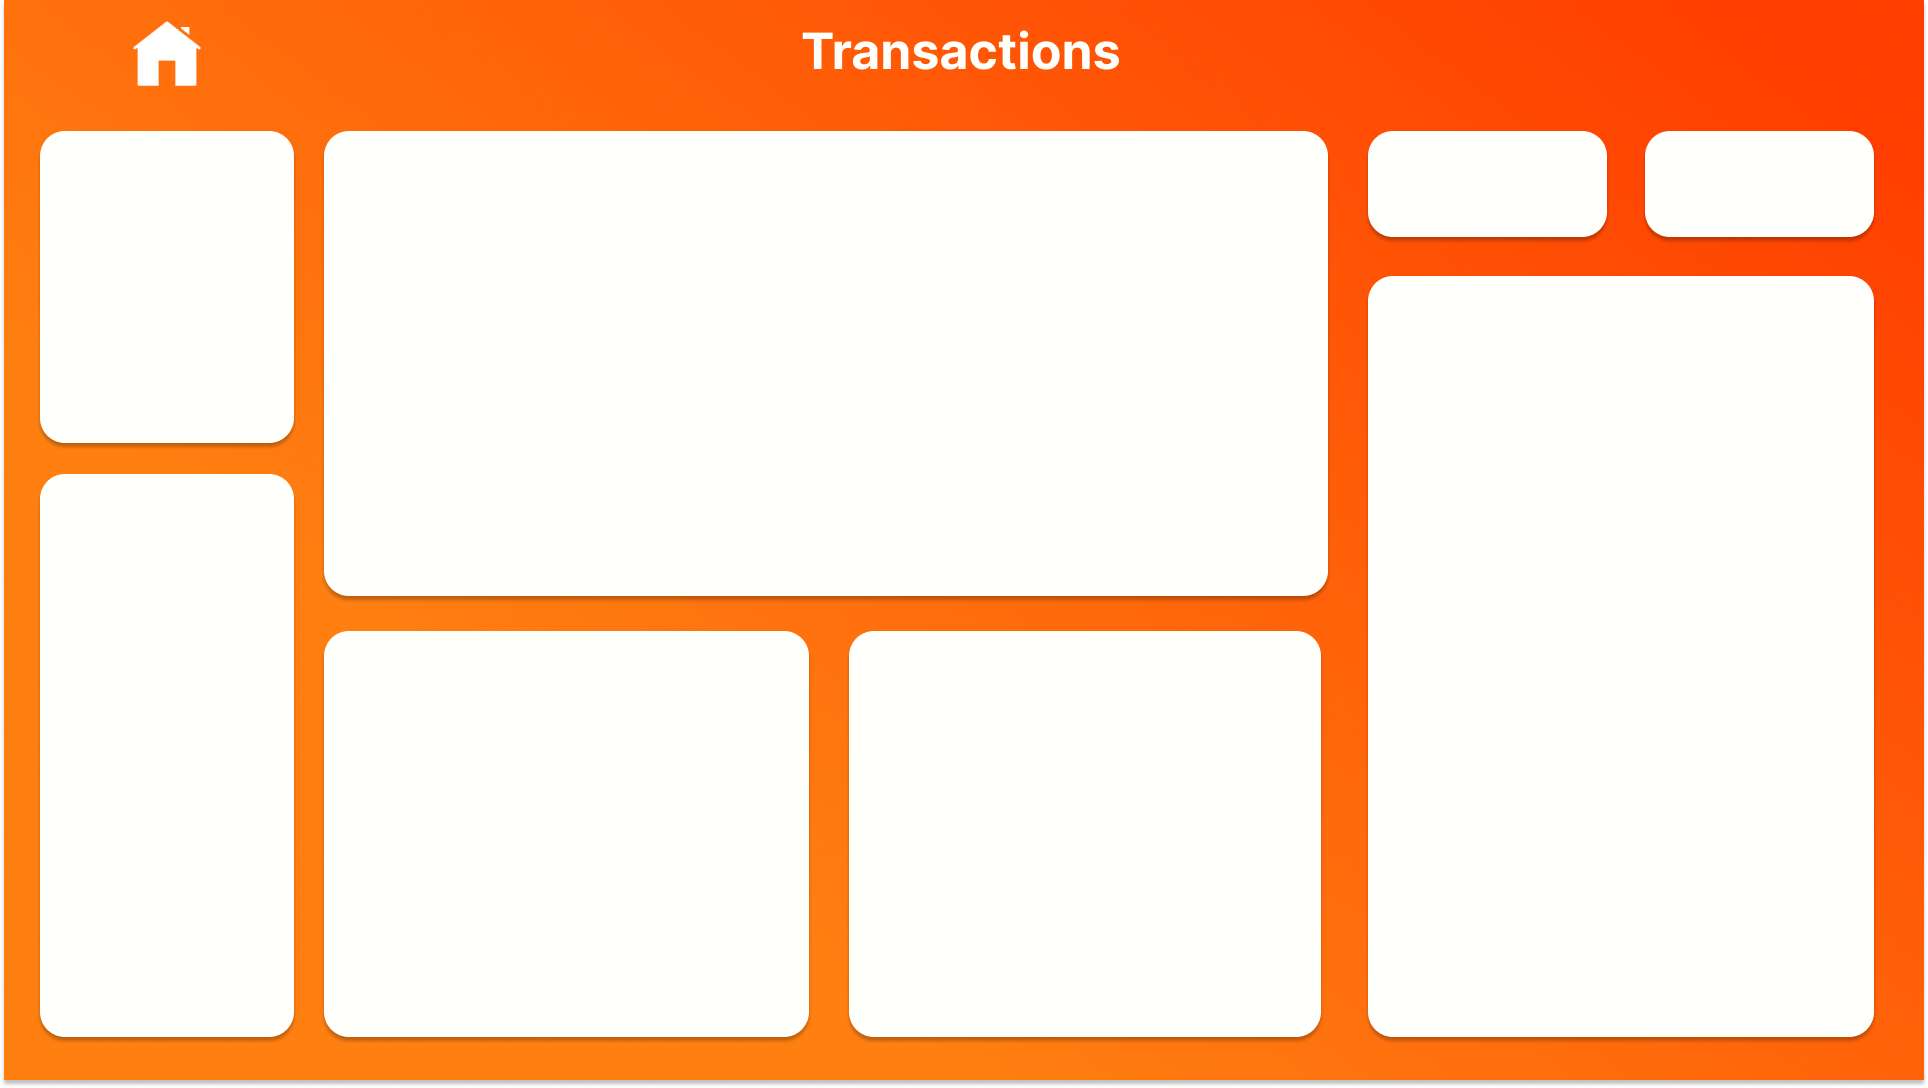

What the dashboard file says about the page in this screenshot:
{"tool":"powerbi","page":{"name":"Transactions","canvas":[1920,1080],"ordinal":1},"visuals":[{"type":"group","id":"g1","title":"bg","box":[0,0,1920,1080],"z":0},{"type":"textbox","box":[50,134,222,44],"z":0,"group":"g5"},{"type":"card","fields":{"Values":["CountNonNull(transactions.num_phone)"]},"box":[1371.7,135,211.7,96.7],"z":0,"group":"g10"},{"type":"card","fields":{"Values":["Sum(transactions.montant_trans)"]},"box":[1638.3,135,211.7,96.7],"z":0,"group":"g11"},{"type":"areaChart","fields":{"Category":["DimDate1.Date.Variation.Date Hierarchy.Year","DimDate1.Date.Variation.Date Hierarchy.Month"],"Y":["CountNonNull(transactions.num_phone)"]},"box":[332.9,182.8,980,400],"z":0,"group":"g7"},{"type":"barChart","fields":{"Series":["transactions.type_compte"],"Category":["transactions.type_trans"],"Y":["CountNonNull(transactions.num_phone)"]},"box":[1371,326.8,479.2,691.8],"z":0,"group":"g9"},{"type":"group","id":"g2","title":"title of slices","box":[50,492.5,242.5,364.2],"z":0,"group":"g3"},{"type":"textbox","title":"titre de filtre","box":[50,492.5,242.5,47.5],"z":0,"group":"g2"},{"type":"pieChart","fields":{"Y":["CountNonNull(souscriptions.num_phone)"],"Category":["souscriptions.type_compte"]},"box":[846.7,625,467,406],"z":0,"group":"g8"},{"type":"slicer","fields":{"Values":["DimDate1.Date"]},"box":[50,656,243,82],"z":0,"group":"g4"},{"type":"map","fields":{"Category":["souscriptions.ville"],"Size":["CountNonNull(transactions.num_phone)"]},"box":[333.8,671.2,462.5,347.5],"z":0,"group":"g6"},{"type":"image","title":"Background","box":[0,0,1920,1080],"z":500,"group":"g1"},{"type":"actionButton","title":"Home Button","box":[131.4,17.1,71.4,71.4],"z":1000,"group":"g1"},{"type":"textbox","box":[1366.2,134.9,231.7,39.7],"z":1000,"group":"g10"},{"type":"textbox","box":[1638.7,135,222.5,40],"z":1000,"group":"g11"},{"type":"textbox","box":[363.1,136.9,712.9,47.1],"z":1000,"group":"g7"},{"type":"donutChart","fields":{"Category":["transactions.annulation"],"Y":["CountNonNull(transactions.num_phone)"]},"box":[50,185,231.7,235],"z":1000,"group":"g5"},{"type":"textbox","box":[1365.7,277.1,510,48.6],"z":1000,"group":"g9"},{"type":"textbox","box":[61.1,540,231.1,41.1],"z":1000,"group":"g2"},{"type":"textbox","box":[874.3,625.7,275.7,47.1],"z":1000,"group":"g8"},{"type":"textbox","box":[356,626,298,46],"z":1000,"group":"g6"},{"type":"slicer","fields":{"Values":["transactions.num_phone"]},"box":[50,855,243,59],"z":1000,"group":"g4"},{"type":"actionButton","box":[109.5,914,112.7,34.9],"z":1000,"group":"g3"},{"type":"group","id":"g3","title":"filtres","box":[50,492.5,243,456.4],"z":2000},{"type":"group","id":"g4","title":"Slicers","box":[50,580,243,334],"z":2000,"group":"g3"},{"type":"slicer","fields":{"Values":["transactions.type_compte"]},"box":[50,580,243,48],"z":2000,"group":"g4"},{"type":"textbox","box":[61.1,625.6,231.1,34.4],"z":2000,"group":"g2"},{"type":"group","id":"g5","title":"taux d'annulation","box":[50,134,231.7,286],"z":3000},{"type":"textbox","box":[61.1,737.8,231.1,37.8],"z":3000,"group":"g2"},{"type":"slicer","fields":{"Values":["souscriptions.ville"]},"box":[50,761,243,53],"z":3000,"group":"g4"},{"type":"group","id":"g6","title":"map ville","box":[333.8,626,462.5,392.8],"z":4000},{"type":"textbox","box":[61.1,814.4,231.1,42.2],"z":4000,"group":"g2"},{"type":"group","id":"g7","title":"trend","box":[332.9,136.9,980,445.9],"z":5000},{"type":"group","id":"g8","title":"types de comptes","box":[846.7,625,467,406],"z":6000},{"type":"group","id":"g9","title":"transaction par types","box":[1365.7,277.1,510,741.6],"z":7000},{"type":"group","id":"g10","title":"nbr trx card","box":[1366.2,134.9,231.7,96.8],"z":8000},{"type":"group","id":"g11","title":"mnt trx","box":[1638.3,135,222.9,96.7],"z":9000}]}

Visuals, with their boxes in screenshot pixels (x1, y1, x2, y2), scaled from the page's 1920x1080 canvas onto the 1928x1088 screenshot:
"bg" group: {"left": 0, "top": 0, "right": 1927, "bottom": 1087}
textbox: {"left": 50, "top": 135, "right": 273, "bottom": 179}
card - CountNonNull(transactions.num_phone): {"left": 1377, "top": 136, "right": 1590, "bottom": 233}
card - Sum(transactions.montant_trans): {"left": 1645, "top": 136, "right": 1858, "bottom": 233}
areaChart - DimDate1.Date.Variation.Date Hierarchy.Year x DimDate1.Date.Variation.Date Hierarchy.Month: {"left": 334, "top": 184, "right": 1318, "bottom": 587}
barChart - transactions.type_compte x transactions.type_trans: {"left": 1377, "top": 329, "right": 1858, "bottom": 1026}
"title of slices" group: {"left": 50, "top": 496, "right": 294, "bottom": 863}
"titre de filtre" textbox: {"left": 50, "top": 496, "right": 294, "bottom": 544}
pieChart - CountNonNull(souscriptions.num_phone) x souscriptions.type_compte: {"left": 850, "top": 630, "right": 1319, "bottom": 1039}
slicer - DimDate1.Date: {"left": 50, "top": 661, "right": 294, "bottom": 743}
map - souscriptions.ville x CountNonNull(transactions.num_phone): {"left": 335, "top": 676, "right": 800, "bottom": 1026}
"Background" image: {"left": 0, "top": 0, "right": 1927, "bottom": 1087}
"Home Button" actionButton: {"left": 132, "top": 17, "right": 204, "bottom": 89}
textbox: {"left": 1372, "top": 136, "right": 1605, "bottom": 176}
textbox: {"left": 1646, "top": 136, "right": 1869, "bottom": 176}
textbox: {"left": 365, "top": 138, "right": 1080, "bottom": 185}
donutChart - transactions.annulation x CountNonNull(transactions.num_phone): {"left": 50, "top": 186, "right": 283, "bottom": 423}
textbox: {"left": 1371, "top": 279, "right": 1884, "bottom": 328}
textbox: {"left": 61, "top": 544, "right": 293, "bottom": 585}
textbox: {"left": 878, "top": 630, "right": 1155, "bottom": 678}
textbox: {"left": 357, "top": 631, "right": 657, "bottom": 677}
slicer - transactions.num_phone: {"left": 50, "top": 861, "right": 294, "bottom": 921}
actionButton: {"left": 110, "top": 921, "right": 223, "bottom": 956}
"filtres" group: {"left": 50, "top": 496, "right": 294, "bottom": 956}
"Slicers" group: {"left": 50, "top": 584, "right": 294, "bottom": 921}
slicer - transactions.type_compte: {"left": 50, "top": 584, "right": 294, "bottom": 633}
textbox: {"left": 61, "top": 630, "right": 293, "bottom": 665}
"taux d'annulation" group: {"left": 50, "top": 135, "right": 283, "bottom": 423}
textbox: {"left": 61, "top": 743, "right": 293, "bottom": 781}
slicer - souscriptions.ville: {"left": 50, "top": 767, "right": 294, "bottom": 820}
"map ville" group: {"left": 335, "top": 631, "right": 800, "bottom": 1026}
textbox: {"left": 61, "top": 820, "right": 293, "bottom": 863}
"trend" group: {"left": 334, "top": 138, "right": 1318, "bottom": 587}
"types de comptes" group: {"left": 850, "top": 630, "right": 1319, "bottom": 1039}
"transaction par types" group: {"left": 1371, "top": 279, "right": 1884, "bottom": 1026}
"nbr trx card" group: {"left": 1372, "top": 136, "right": 1605, "bottom": 233}
"mnt trx" group: {"left": 1645, "top": 136, "right": 1869, "bottom": 233}
